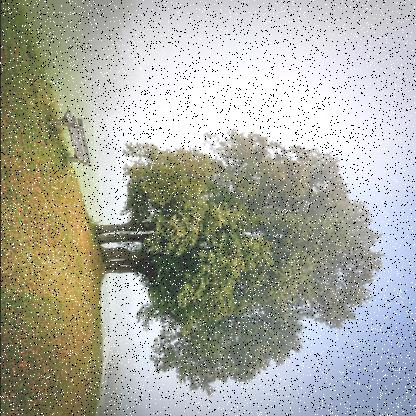Tree: (96, 133, 386, 394)
